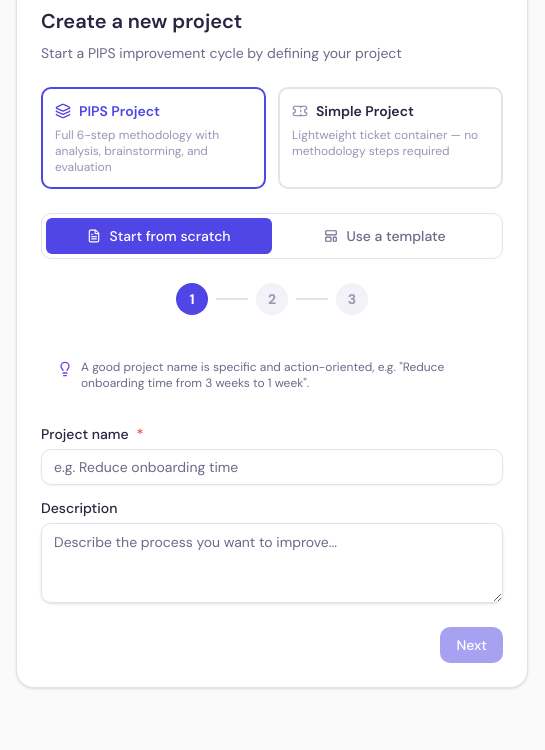
Test: ProjectForm › switches to template mode when template toggle is clicked
Click the button with test id "mode-template": (385, 236) x1=272 y1=218 x2=498 y2=254
(page scrolled)
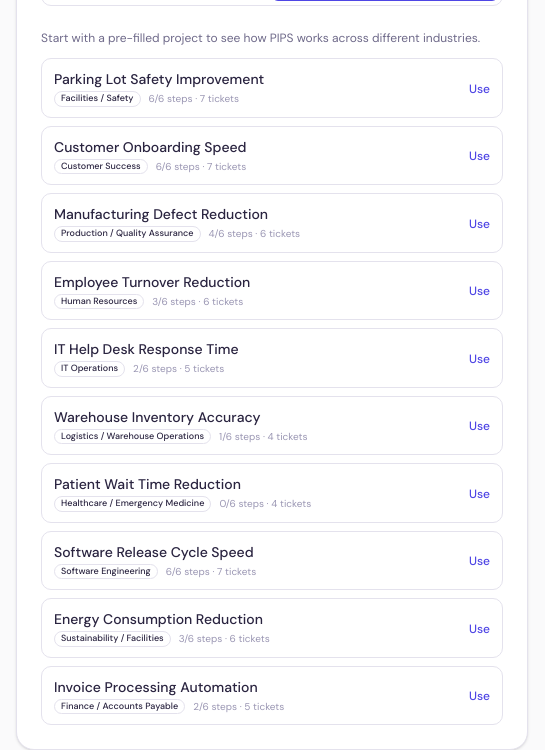
Now the element with test id "template-picker" is shown
Now the element with test id "stepper" is gone
